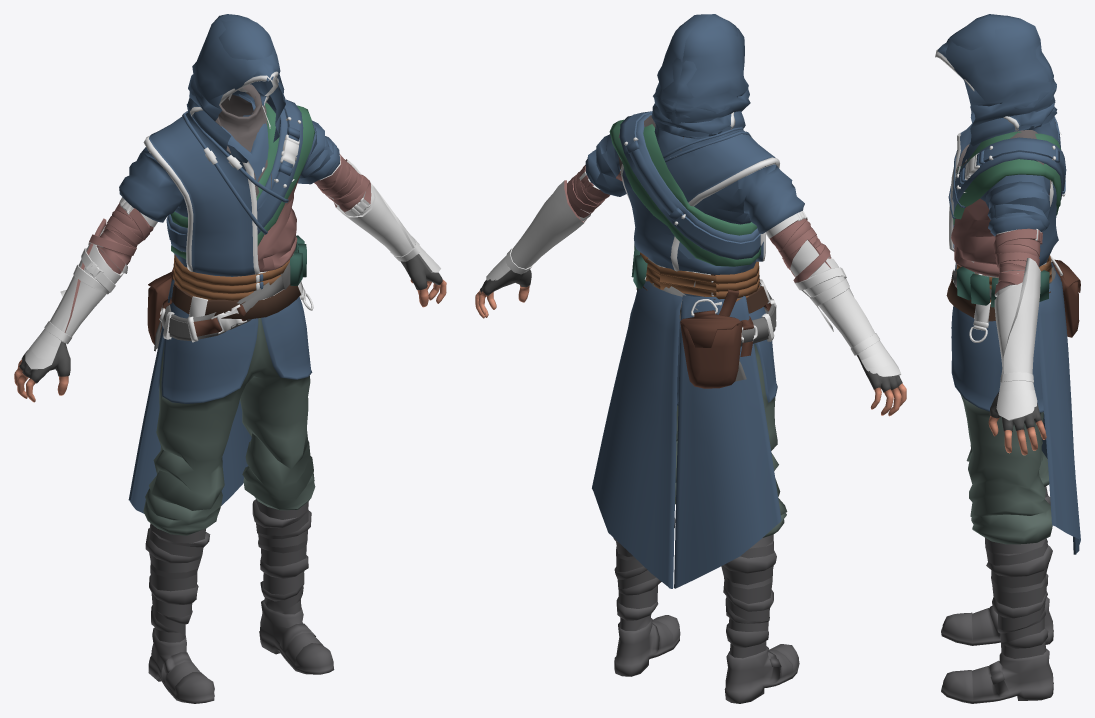
File: star_aventure_mage.glb
3 views of the same model, side by side, from view 1: azimuth 30°, elevation 25°; view 2: azimuth 150°, elevation 25°; view 3: azimuth 270°, elevation 25° (orthographic).
Parts seen in each view (by area): view 1: Object_3, Object_30, Object_15, Object_2, Object_31, Object_5, Object_13, Object_29, Object_19, Object_7, Object_12, Object_8 (+13 smaller); view 2: Object_29, Object_17, Object_30, Object_15, Object_31, Object_5, Object_33, Object_12, Object_19, Object_13, Object_7, Object_26 (+7 smaller); view 3: Object_15, Object_3, Object_19, Object_17, Object_30, Object_5, Object_2, Object_31, Object_11, Object_12, Object_13, Object_24 (+9 smaller).
Part boxes in pixels (box(x1,y1,x2,y2)): Object_3: box(143, 318, 315, 535); Object_30: box(149, 14, 303, 289); Object_15: box(145, 499, 334, 703); Object_2: box(158, 290, 312, 403); Object_31: box(119, 94, 337, 267); Object_5: box(25, 186, 440, 368); Object_13: box(64, 154, 371, 332); Object_29: box(128, 279, 174, 513); Object_19: box(187, 14, 285, 142); Object_7: box(173, 254, 289, 300); Object_12: box(170, 103, 315, 259); Object_8: box(215, 84, 268, 197); Object_29: box(674, 295, 781, 588); Object_17: box(592, 281, 682, 588); Object_30: box(619, 14, 775, 270); Object_15: box(613, 518, 799, 703); Object_31: box(587, 127, 804, 274); Object_5: box(486, 180, 900, 376); Object_33: box(680, 289, 771, 388); Object_12: box(609, 119, 760, 266); Object_19: box(651, 14, 737, 138); Object_13: box(564, 165, 831, 282); Object_7: box(640, 252, 759, 301); Object_26: box(580, 172, 849, 331); Object_15: box(941, 486, 1053, 703); Object_3: box(960, 394, 1052, 544); Object_19: box(937, 14, 1056, 146); Object_17: box(1037, 270, 1080, 554); Object_30: box(938, 15, 1066, 270); Object_5: box(994, 258, 1040, 419); Object_2: box(951, 306, 1043, 412); Object_31: box(948, 116, 1065, 231); Object_11: box(951, 193, 1049, 276); Object_12: box(953, 131, 1061, 224); Object_13: box(993, 228, 1042, 293); Object_24: box(957, 131, 1061, 420).
Bounding box in the file's own units: 1.24 × 1.84 × 0.3733.
